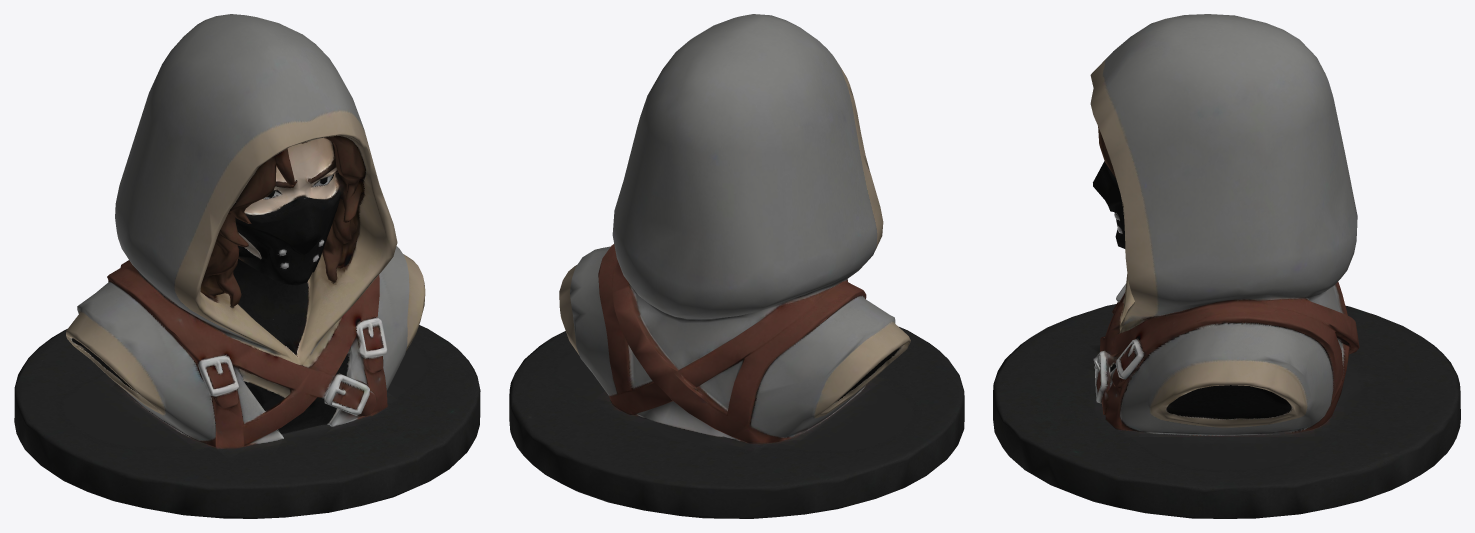
3 renders of one model, left to right at view 1: azimuth 30°, elevation 25°; view 2: azimuth 150°, elevation 25°; view 3: azimuth 270°, elevation 25°, orthographic. The views are drawn at different scales.
Visible parts, largest first — view 1: tripo_node_692fbe15-5d91-40fd-b584-b08905e452f; view 2: tripo_node_692fbe15-5d91-40fd-b584-b08905e452f; view 3: tripo_node_692fbe15-5d91-40fd-b584-b08905e452f.
Boxes of the visible parts, x1=… form: tripo_node_692fbe15-5d91-40fd-b584-b08905e452f: x1=14, y1=14, x2=480, y2=518; tripo_node_692fbe15-5d91-40fd-b584-b08905e452f: x1=509, y1=14, x2=964, y2=518; tripo_node_692fbe15-5d91-40fd-b584-b08905e452f: x1=993, y1=14, x2=1460, y2=518.
Size of the model in its own units: 0.9987 by 0.9477 by 0.9984.
Materials: 1 (1 with a texture image).
